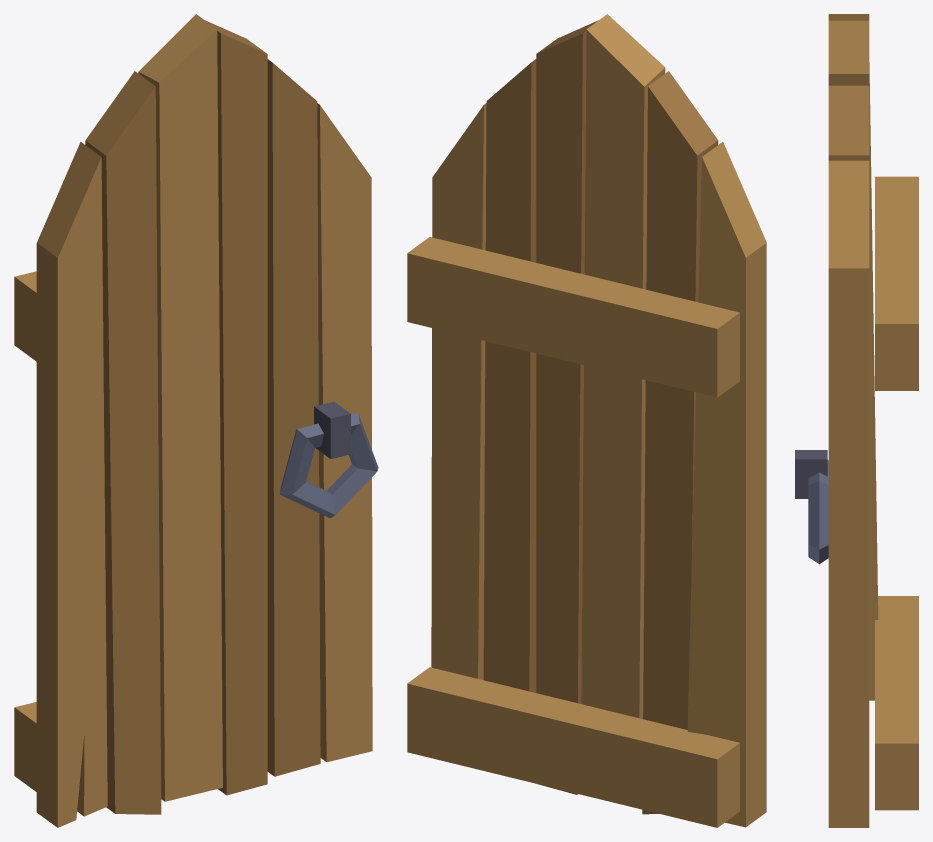
The model's file is Door.fbx.
3 renders of one model, left to right at view 1: azimuth 30°, elevation 25°; view 2: azimuth 150°, elevation 25°; view 3: azimuth 270°, elevation 25°, orthographic. The views are drawn at different scales.
Visible parts, largest first — view 1: Door; view 2: Door; view 3: Door.
Boxes of the visible parts, box(x1,y1,x2,y2) form: Door: box(14, 14, 378, 827); Door: box(407, 14, 766, 827); Door: box(795, 14, 918, 827).
Bounding box in the file's own units: 0.32 × 0.7467 × 0.1114.
